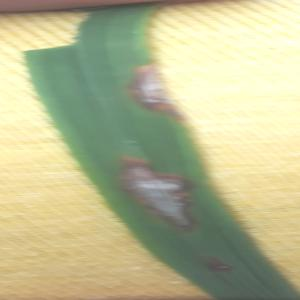1 RiceBlast: (100, 143, 203, 235), (115, 47, 186, 129)
